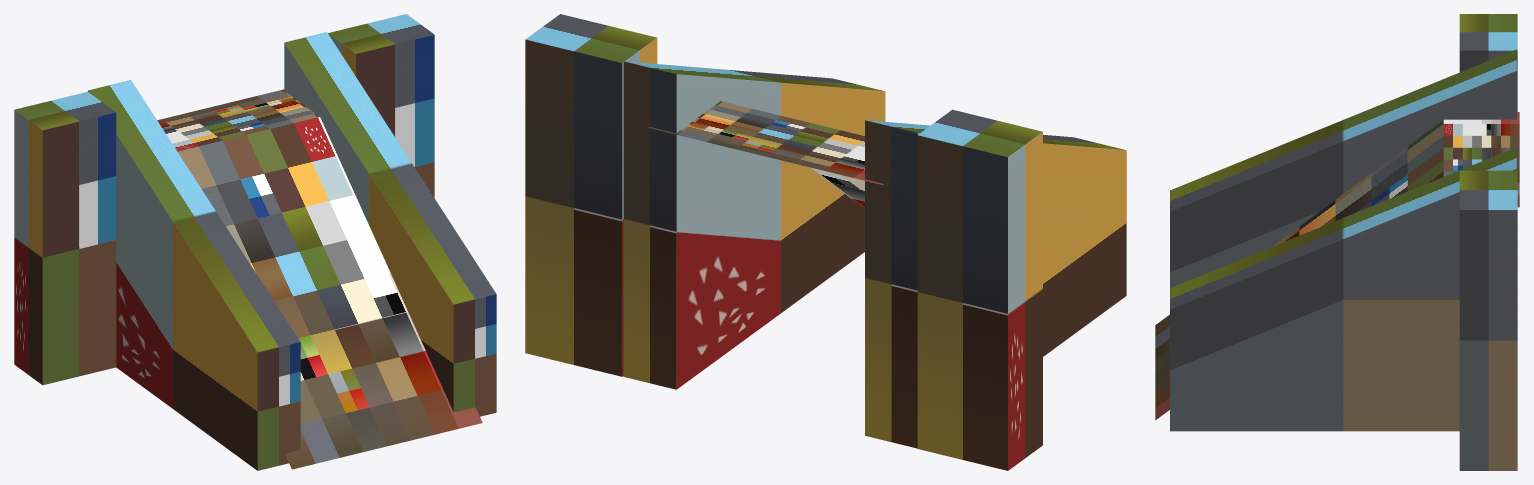
Rendered from Wall_Stairs_Phys.fbx.
3 renders of one model, left to right at view 1: azimuth 30°, elevation 25°; view 2: azimuth 150°, elevation 25°; view 3: azimuth 270°, elevation 25°, orthographic. The views are drawn at different scales.
Visible parts, largest first — view 1: polySurface10635; view 2: polySurface10635; view 3: polySurface10635.
Part boxes in pixels (x1=…): polySurface10635: x1=14, y1=14, x2=496, y2=470; polySurface10635: x1=525, y1=14, x2=1126, y2=470; polySurface10635: x1=1155, y1=14, x2=1519, y2=470.
Bounding box in the file's own units: 800 × 500 × 629.
